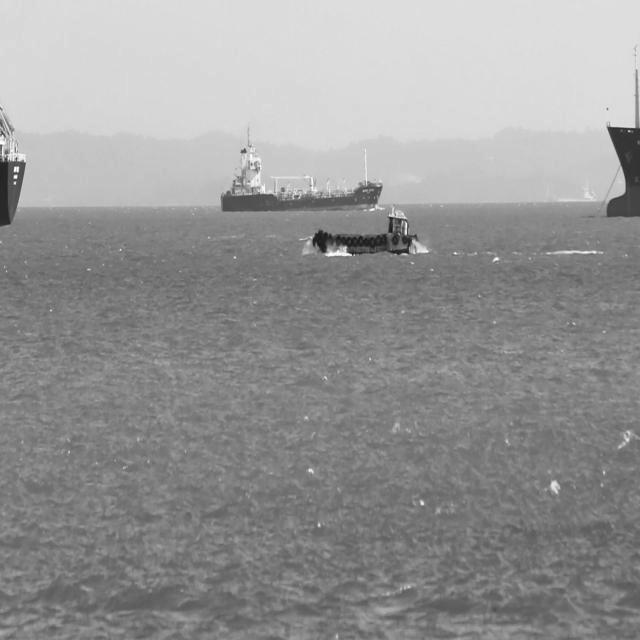ship: (219, 124, 382, 214), (314, 202, 421, 256), (606, 44, 639, 219), (0, 103, 25, 227)
